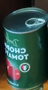tomatoes: (3, 7, 48, 90)
